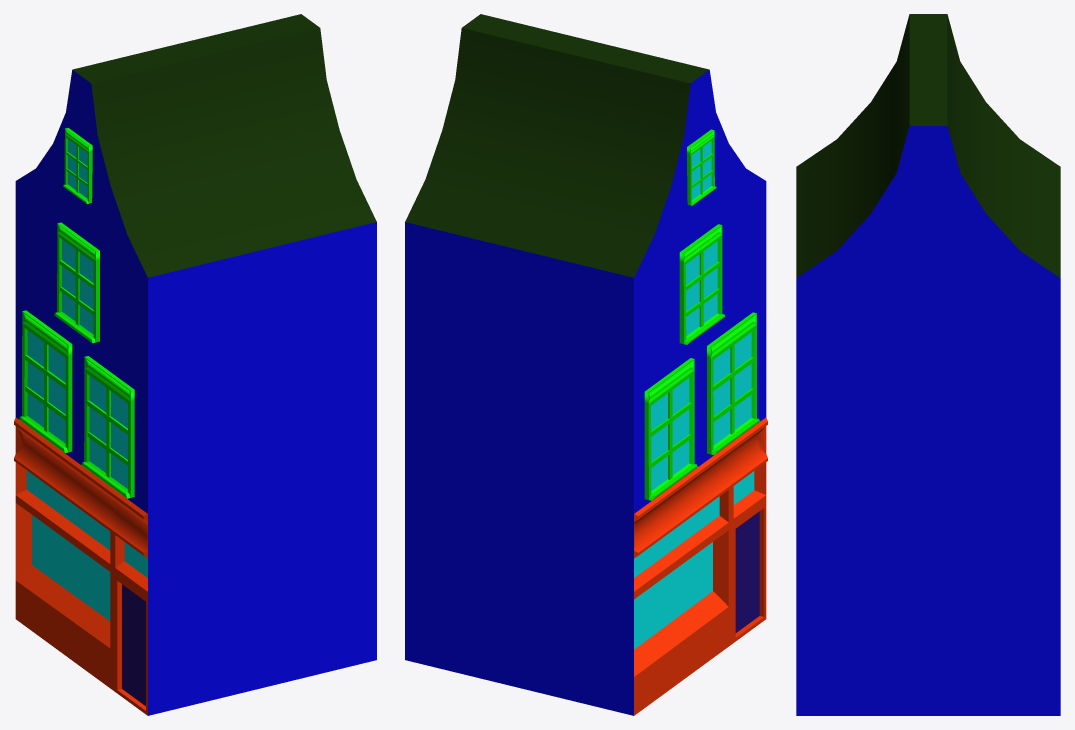
The model's file is Links_2.obj.
The picture shows the model from 3 angles, left to right: view 1: azimuth 30°, elevation 25°; view 2: azimuth 150°, elevation 25°; view 3: azimuth 270°, elevation 25°; orthographic projection.
Parts seen in each view (by area): view 1: polySurface464; view 2: polySurface464; view 3: polySurface464.
Boxes of the visible parts, x1,y1,x2,y2 form: polySurface464: (14,14,376,715); polySurface464: (405,14,767,715); polySurface464: (796,14,1060,715).
Size of the model in its own units: 11.11 by 26.49 by 10.74.
